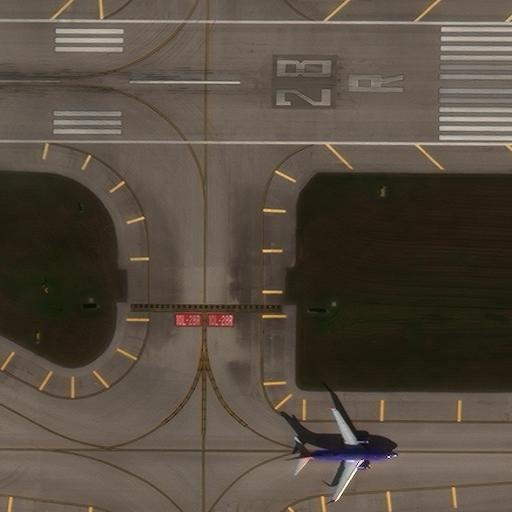Large Civil Transport: (286, 405, 398, 503)
